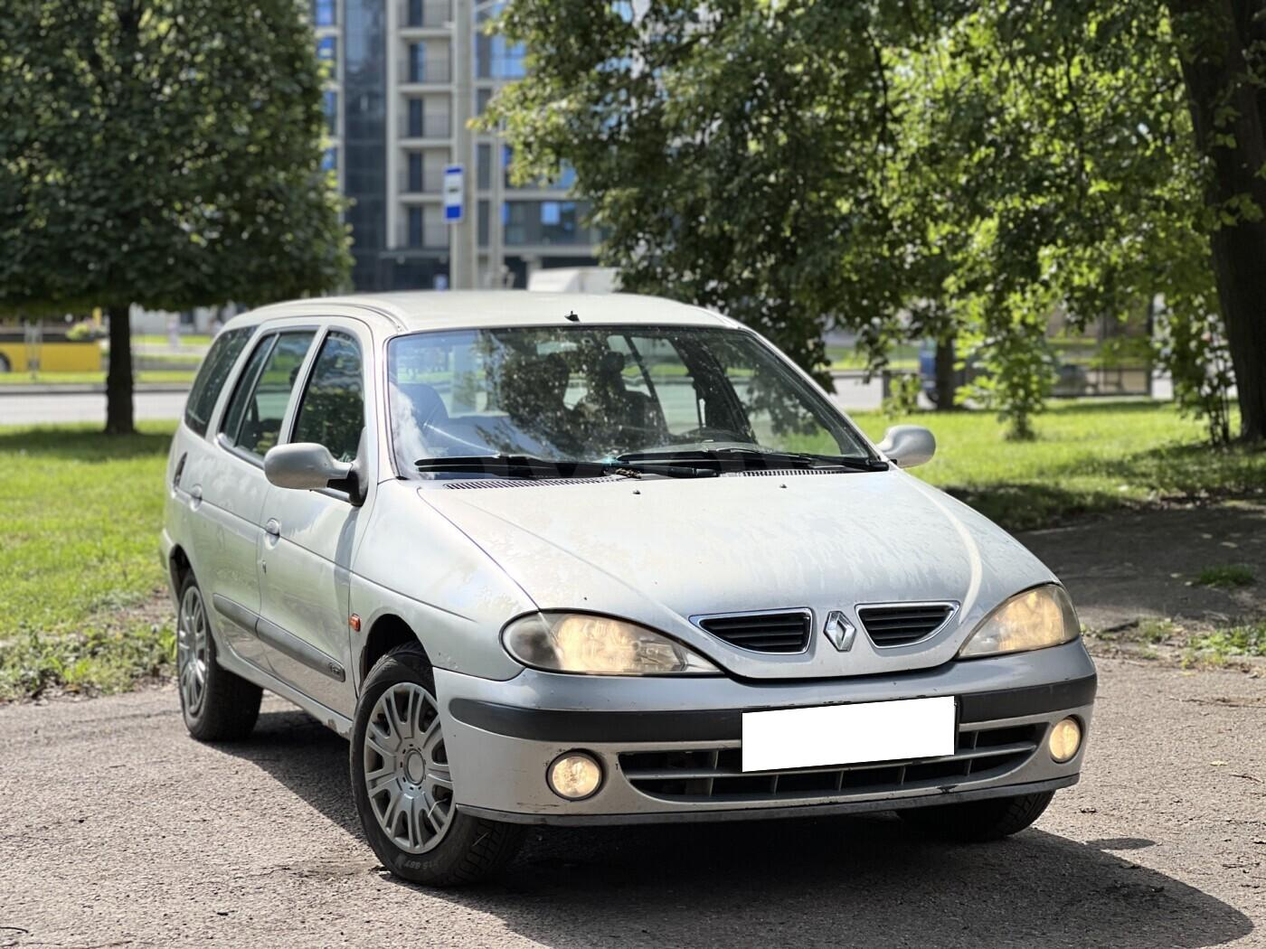Megane_1999-2003: (156, 287, 1097, 873)
